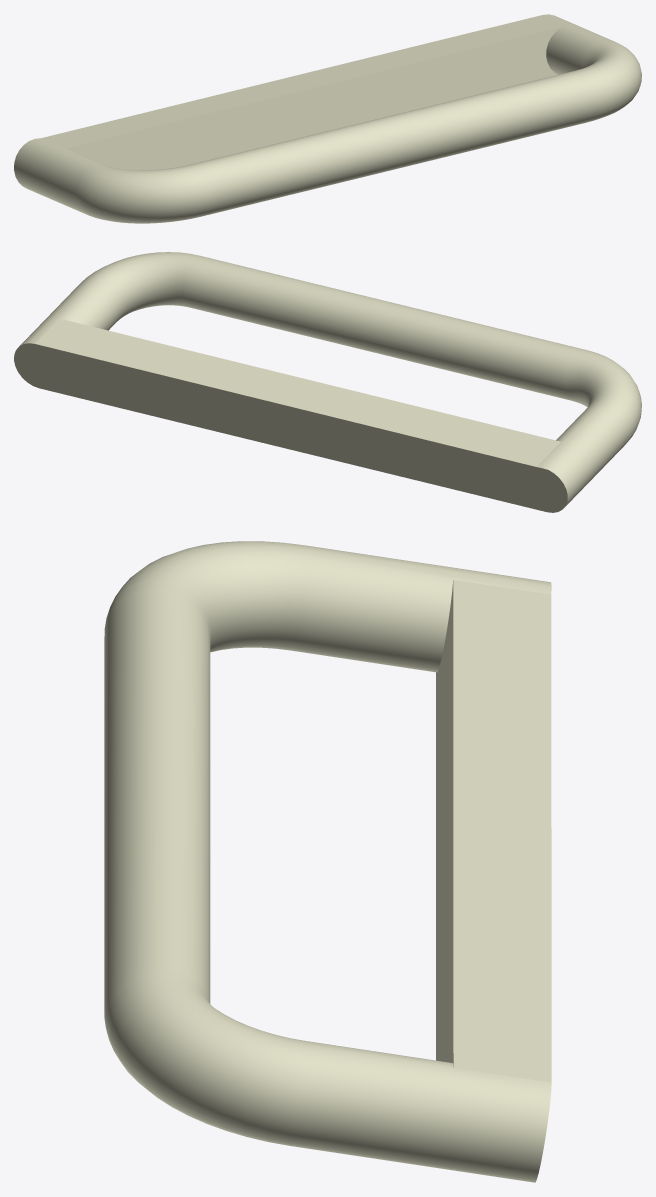
File: original-12.obj
3 renders of one model, top to bottom at view 1: azimuth 30°, elevation 25°; view 2: azimuth 150°, elevation 25°; view 3: azimuth 270°, elevation 25°, orthographic. The views are drawn at different scales.
Parts seen in each view (by area): view 1: group_6/ID87#ID87; view 2: group_6/ID87#ID87; view 3: group_6/ID87#ID87.
Boxes of the visible parts, bbox=[...] form: group_6/ID87#ID87: bbox=[14, 14, 641, 223]; group_6/ID87#ID87: bbox=[14, 252, 641, 512]; group_6/ID87#ID87: bbox=[104, 541, 551, 1182].
Size of the model in its own units: 0.2517 by 0.0333 by 0.088.
